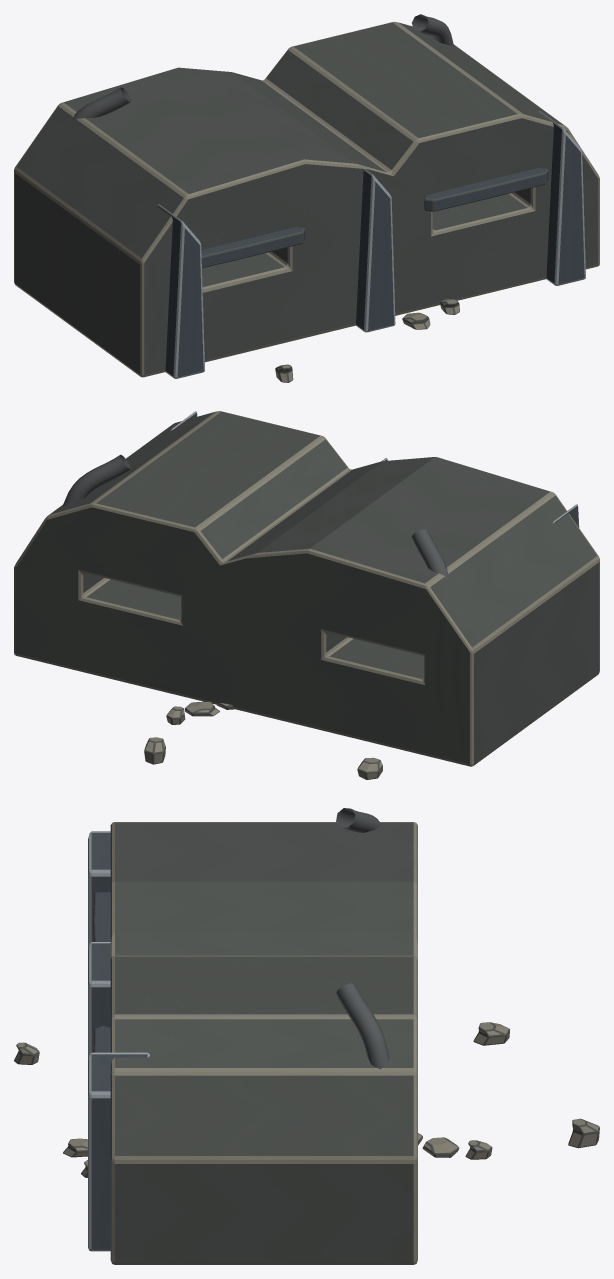
Rendered from breach_bunker.glb.
The picture shows the model from 3 angles, top to bottom: view 1: azimuth 30°, elevation 25°; view 2: azimuth 150°, elevation 25°; view 3: azimuth 270°, elevation 25°; orthographic projection. The views are drawn at different scales.
Parts seen in each view (by area): view 1: GT_0130_breach_bunker; view 2: GT_0130_breach_bunker; view 3: GT_0130_breach_bunker.
Part boxes in pixels (left/top/right/bottom): GT_0130_breach_bunker: left=14, top=14, right=599, bottom=382; GT_0130_breach_bunker: left=14, top=411, right=599, bottom=779; GT_0130_breach_bunker: left=14, top=808, right=599, bottom=1264.
Bounding box in the file's own units: 7 × 2.89 × 6.48.
1 material, 1 textured.
